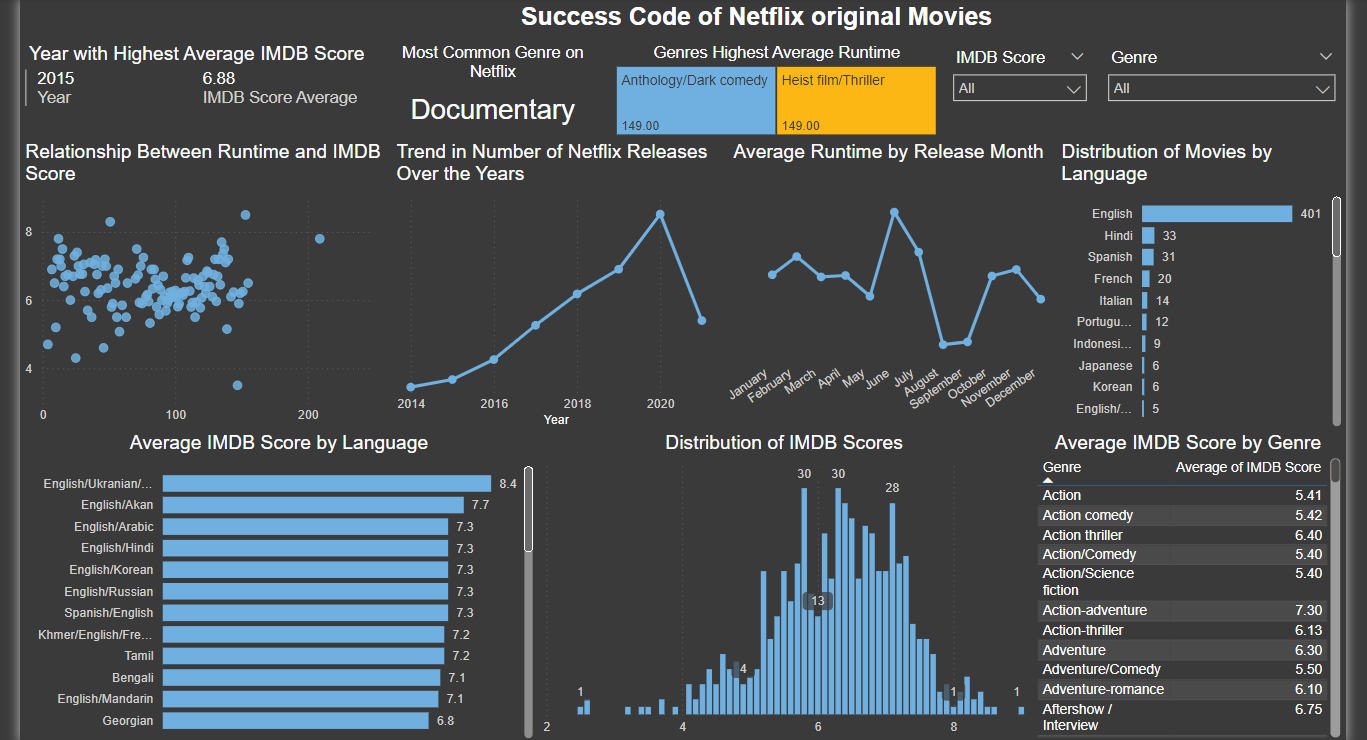

This screenshot's page, from the dashboard's own definition file:
{"tool":"powerbi","page":{"name":"Page 1","canvas":[1280,720],"ordinal":0},"visuals":[{"type":"scatterChart","title":"Relationship Between Runtime and IMDB Score","fields":{"X":["Avg(Netflix.Runtime)"],"Y":["Avg(Netflix.IMDB Score)"],"Category":["Netflix.Runtime"]},"box":[0,138,358,281],"z":0},{"type":"lineStackedColumnComboChart","title":"Distribution of IMDB Scores","fields":{"Category":["Netflix.IMDB Score"],"Y":["CountNonNull(Netflix.IMDB Score)"]},"box":[500,419,476,301],"z":1000},{"type":"treemap","title":"Genres Highest Average Runtime","fields":{"Group":["Netflix.Genre"],"Values":["Avg(Netflix.Runtime)"]},"box":[571.1,44,319.2,94.2],"z":2000},{"type":"barChart","title":"Average IMDB Score by Language","fields":{"Category":["Netflix.Language"],"Y":["Netflix.AverageIMDBScoreByLanguage"]},"box":[0,419,500,301],"z":3000},{"type":"lineChart","title":"Trend in Number of Netflix Releases Over the Years","fields":{"Category":["Netflix.Premiere.Variation.Date Hierarchy.Year"],"Y":["CountNonNull(Netflix.Title)"]},"box":[358,138,319,281],"z":4000},{"type":"multiRowCard","title":"Year with Highest Average IMDB Score","fields":{"Values":["Netflix.Premiere.Variation.Date Hierarchy.Year","Avg(Netflix.IMDB Score)"]},"box":[0,44,341.2,94.2],"z":5000},{"type":"lineChart","title":"Average Runtime by Release Month","fields":{"Category":["Netflix.Premiere.Variation.Date Hierarchy.Month"],"Y":["Avg(Netflix.Runtime)"]},"box":[677,138,323,281],"z":7000},{"type":"card","title":"Most Common Genre on Netflix","fields":{"Values":["Min(Netflix.Genre)"]},"box":[341.2,44,229.9,94.2],"z":8000},{"type":"barChart","title":"Distribution of Movies by Language","fields":{"Category":["Netflix.Language"],"Y":["CountNonNull(Netflix.Title)"]},"box":[1000,138,280,281],"z":8001},{"type":"textbox","box":[420.7,0,579.6,44],"z":8002},{"type":"tableEx","title":"Average IMDB Score by Genre","fields":{"Values":["Netflix.Genre","Avg(Netflix.IMDB Score)"]},"box":[976,419,303,300],"z":8003},{"type":"slicer","fields":{"Values":["Netflix.IMDB Score"]},"box":[890.2,44,149.2,94.2],"z":8004},{"type":"slicer","fields":{"Values":["Netflix.Genre"]},"box":[1039.4,44,239.7,94.2],"z":8005}]}

Visuals, with their boxes in screenshot pixels (x1, y1, x2, y2):
"Relationship Between Runtime and IMDB Score" scatterChart: [0, 145, 369, 441]
"Distribution of IMDB Scores" lineStackedColumnComboChart: [519, 441, 1019, 739]
"Genres Highest Average Runtime" treemap: [593, 46, 929, 145]
"Average IMDB Score by Language" barChart: [0, 441, 519, 739]
"Trend in Number of Netflix Releases Over the Years" lineChart: [369, 145, 705, 441]
"Year with Highest Average IMDB Score" multiRowCard: [0, 46, 352, 145]
"Average Runtime by Release Month" lineChart: [705, 145, 1044, 441]
"Most Common Genre on Netflix" card: [352, 46, 593, 145]
"Distribution of Movies by Language" barChart: [1044, 145, 1339, 441]
textbox: [435, 0, 1045, 46]
"Average IMDB Score by Genre" tableEx: [1019, 441, 1338, 739]
slicer - Netflix.IMDB Score: [929, 46, 1086, 145]
slicer - Netflix.Genre: [1086, 46, 1338, 145]
